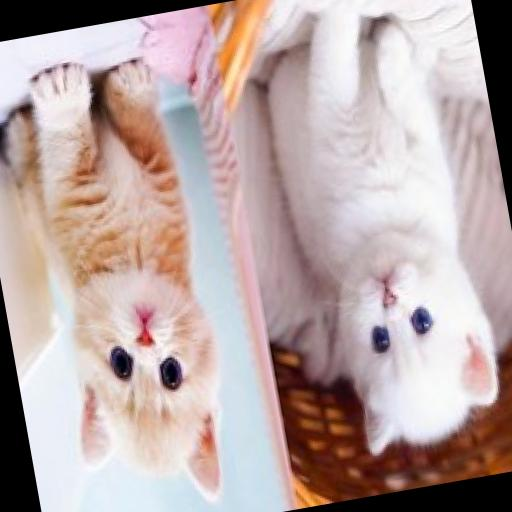cat: (0, 39, 248, 512), (257, 0, 506, 469)
